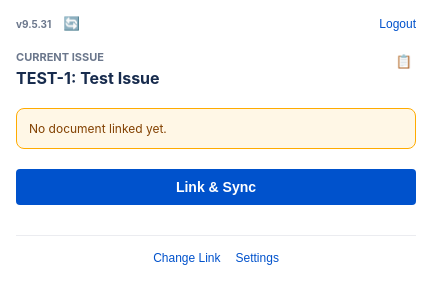
Sync Individual UX Regression › should open Linking Options instead of Syncing if no doc is linked
// Action: Click Sync
Click the button "Link & Sync" at (216, 187), box [16,169,416,205]
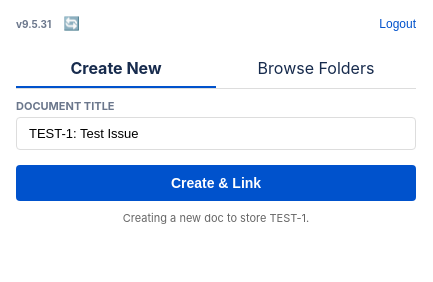
Check: the button "Create & Link" is shown, box [16,165,416,201]
